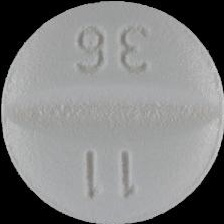10544-225: (0, 0, 224, 224)
